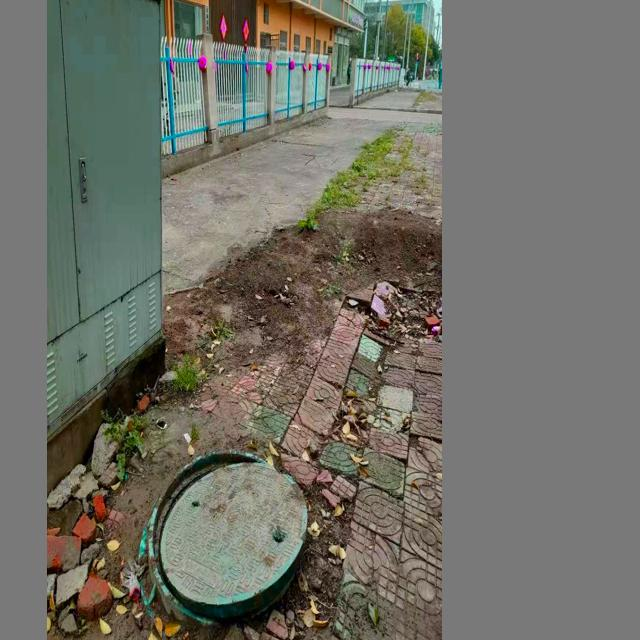uncovered: (151, 451, 307, 610)
